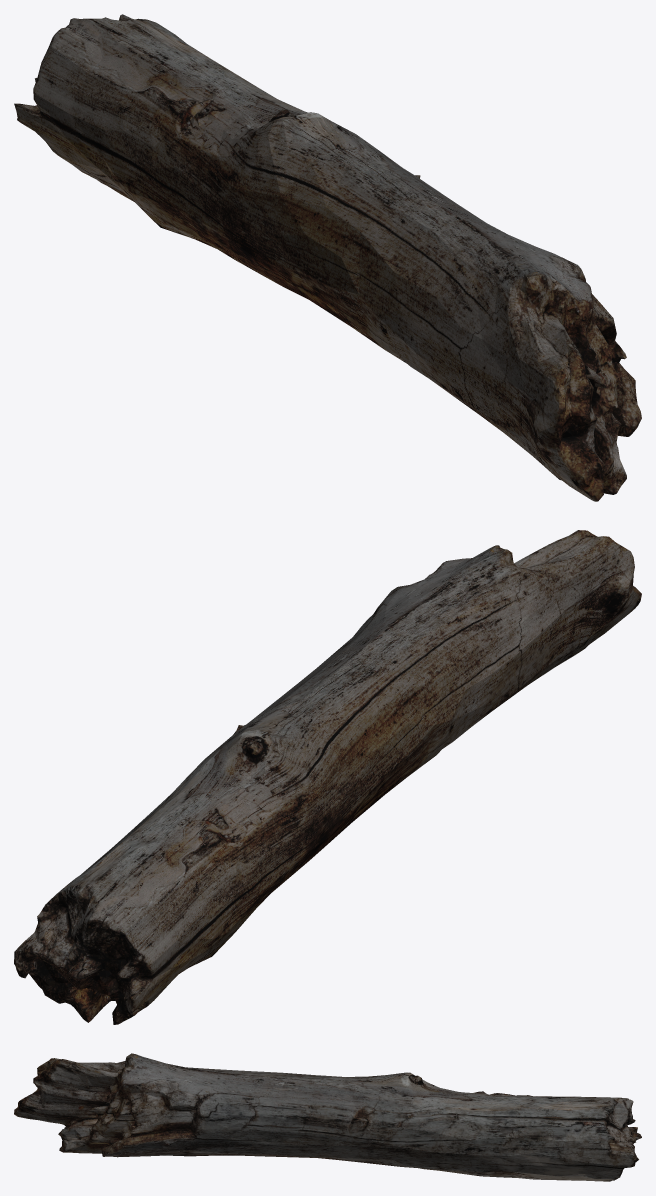
Rendered from s3dtrees_treepineforestlog02blank.gltf.
The picture shows the model from 3 angles, top to bottom: view 1: azimuth 30°, elevation 25°; view 2: azimuth 150°, elevation 25°; view 3: azimuth 270°, elevation 25°; orthographic projection. The views are drawn at different scales.
Visible parts, largest first — view 1: treepineforestlog02blank:1; view 2: treepineforestlog02blank:1; view 3: treepineforestlog02blank:1.
Part boxes in pixels (x1,y1,x2,y2): treepineforestlog02blank:1: [14, 14, 641, 501]; treepineforestlog02blank:1: [14, 530, 641, 1024]; treepineforestlog02blank:1: [14, 1053, 641, 1181].
Bounding box in the file's own units: 1.15 × 1.47 × 7.
Materials: 1 (1 with a texture image).
